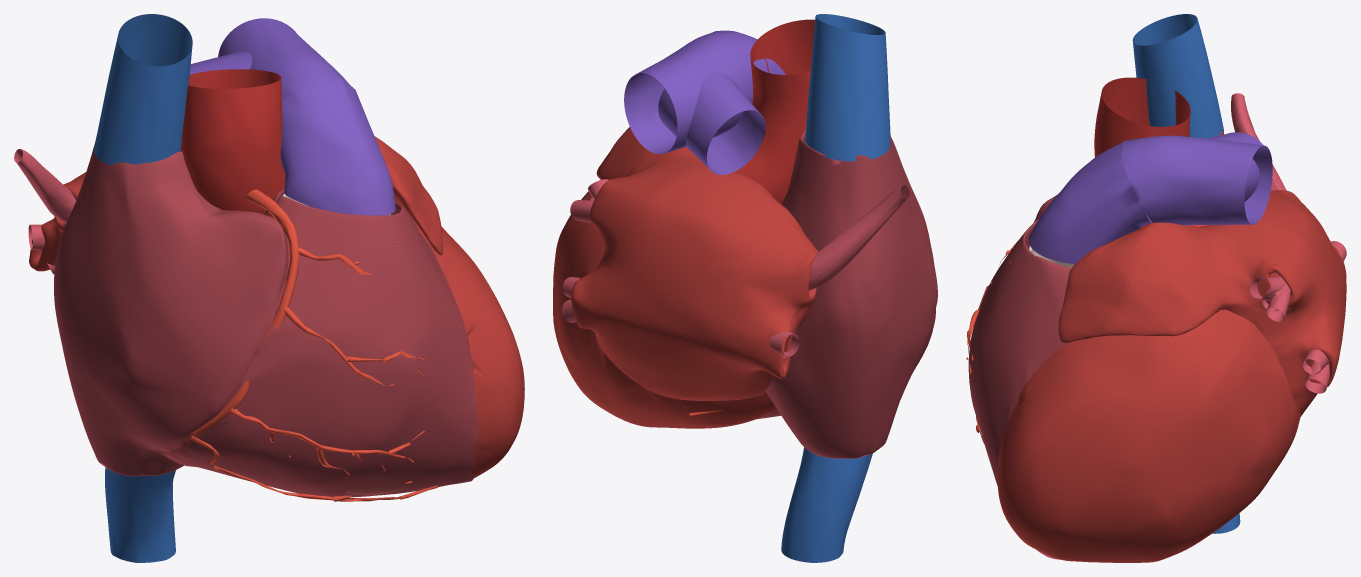
The model's file is heart.glb.
3 views of the same model, side by side, from view 1: azimuth 30°, elevation 25°; view 2: azimuth 150°, elevation 25°; view 3: azimuth 270°, elevation 25° (orthographic). The views are drawn at different scales.
Visible parts, largest first — view 1: right_ventricle, right_atrium, pulmonary trunk, aorta.001, superior vena cava, left_ventricle, right_coronary_artery, inferior vena cava, left_atrium, right_superior_pulmonary_vein; view 2: left_atrium, right_atrium, pulmonary trunk, left_ventricle, superior vena cava, aorta.001, inferior vena cava, right_superior_pulmonary_vein, left_superior_pulmonary_vein, right_inferior_pulmonary_vein; view 3: left_ventricle, left_atrium, pulmonary trunk, right_ventricle, superior vena cava, aorta.001, left_superior_pulmonary_vein, right_superior_pulmonary_vein, left_inferior_pulmonary_vein.
Part boxes in pixels (bbox=[...]): right_ventricle: bbox=[161, 189, 478, 497]; right_atrium: bbox=[54, 145, 288, 476]; pulmonary trunk: bbox=[189, 18, 395, 215]; aorta.001: bbox=[181, 69, 285, 217]; superior vena cava: bbox=[94, 14, 192, 165]; left_ventricle: bbox=[414, 222, 524, 478]; right_coronary_artery: bbox=[168, 189, 438, 501]; inferior vena cava: bbox=[105, 467, 175, 562]; left_atrium: bbox=[29, 136, 443, 271]; right_superior_pulmonary_vein: bbox=[14, 149, 76, 223]; left_atrium: bbox=[571, 127, 818, 400]; right_atrium: bbox=[765, 130, 937, 458]; pulmonary trunk: bbox=[624, 30, 785, 174]; left_ventricle: bbox=[553, 179, 776, 428]; superior vena cava: bbox=[805, 14, 890, 161]; aorta.001: bbox=[735, 19, 814, 204]; inferior vena cava: bbox=[781, 447, 872, 562]; right_superior_pulmonary_vein: bbox=[808, 185, 909, 290]; left_superior_pulmonary_vein: bbox=[570, 179, 608, 222]; right_inferior_pulmonary_vein: bbox=[769, 331, 799, 361]; left_ventricle: bbox=[997, 309, 1300, 562]; left_atrium: bbox=[1058, 190, 1346, 416]; pulmonary trunk: bbox=[1029, 132, 1272, 264]; right_ventricle: bbox=[968, 219, 1071, 559]; superior vena cava: bbox=[1132, 14, 1223, 138]; aorta.001: bbox=[1094, 77, 1207, 227]; left_superior_pulmonary_vein: bbox=[1250, 276, 1290, 321]; right_superior_pulmonary_vein: bbox=[1231, 93, 1286, 190]; left_inferior_pulmonary_vein: bbox=[1302, 349, 1329, 393].
Bounding box in the file's own units: 3.2 × 4.04 × 2.81.
